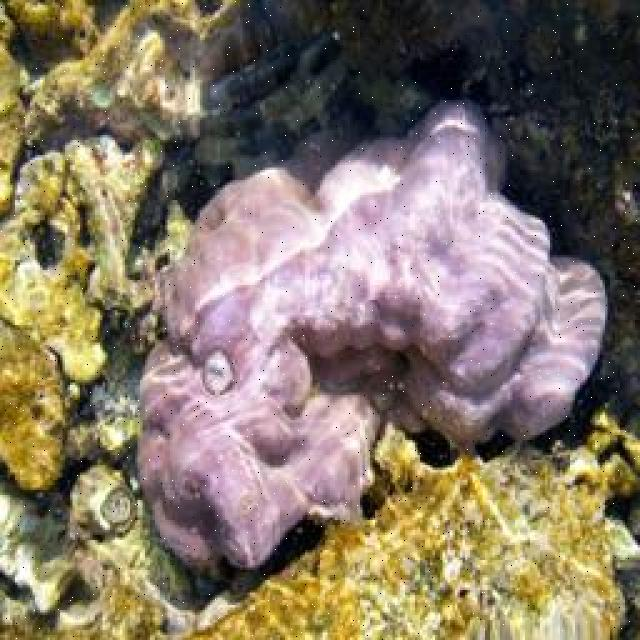reefs: (135, 96, 609, 567)
